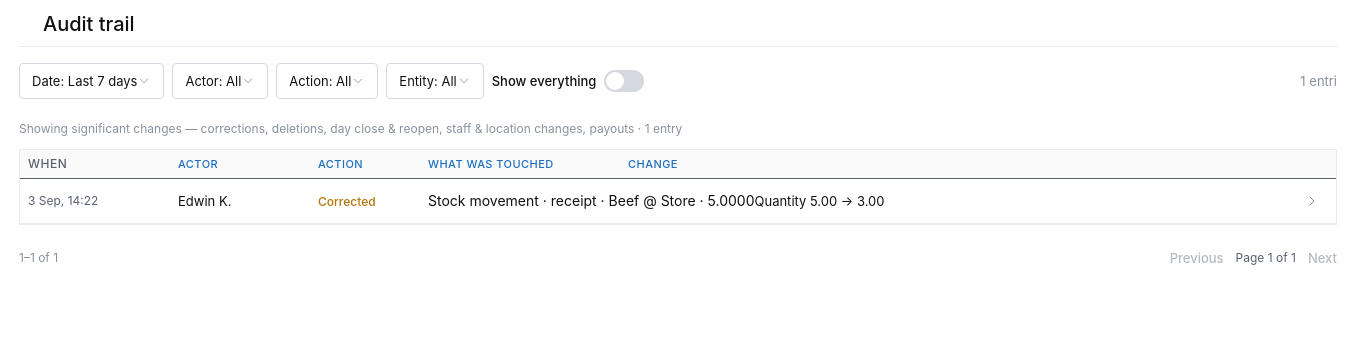
Test: /admin/audit-trail › expands a scalar correction to a FIELD / WAS / NOW mini-table
Expected: the text "Quantity 5.00 → 3.00" is shown, [754,193,884,209]
What coordinates should you click on to do the following:
click the row named "Corrected — Stock movement"
I would click on:
 (674, 200)
Its box is [28,192,1320,209].
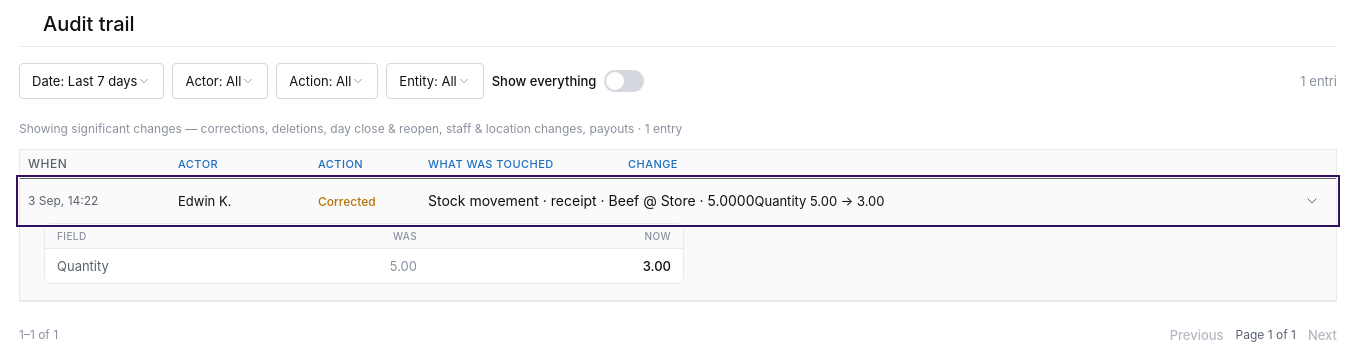
Expected: the text "Field" is shown, [57,230,86,242]
Expected: the text "Was" is shown, [393,230,417,242]
Expected: the text "Now" is shown, [645,230,671,242]
